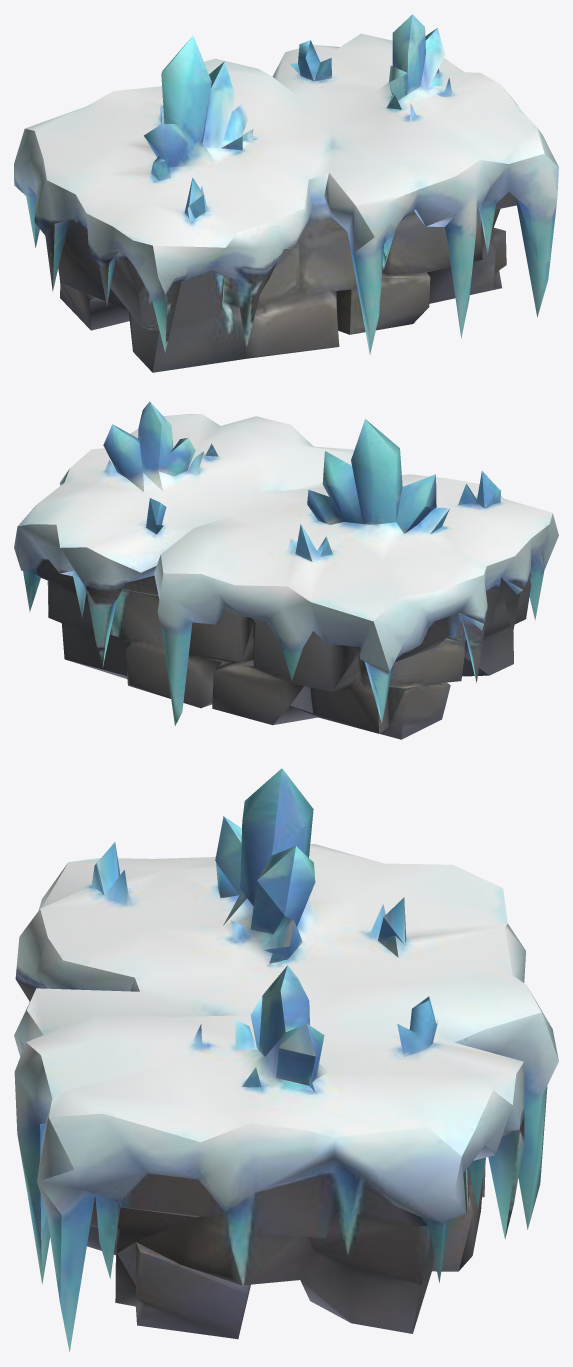
File: d_givre_cime.glb
3 views of the same model, one above another, from view 1: azimuth 30°, elevation 25°; view 2: azimuth 150°, elevation 25°; view 3: azimuth 270°, elevation 25° (orthographic). The views are drawn at different scales.
Visible parts, largest first — view 1: geometry_0; view 2: geometry_0; view 3: geometry_0.
Part boxes in pixels (bbox=[...]): geometry_0: bbox=[14, 14, 558, 372]; geometry_0: bbox=[14, 401, 558, 739]; geometry_0: bbox=[14, 768, 558, 1351].
Size of the model in its own units: 0.9986 by 0.6152 by 0.7519.
1 material, 1 textured.
